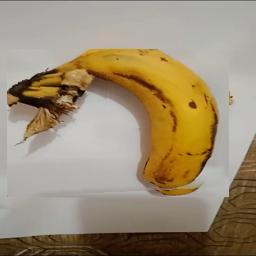Banana Semifresh: (7, 49, 229, 197)
